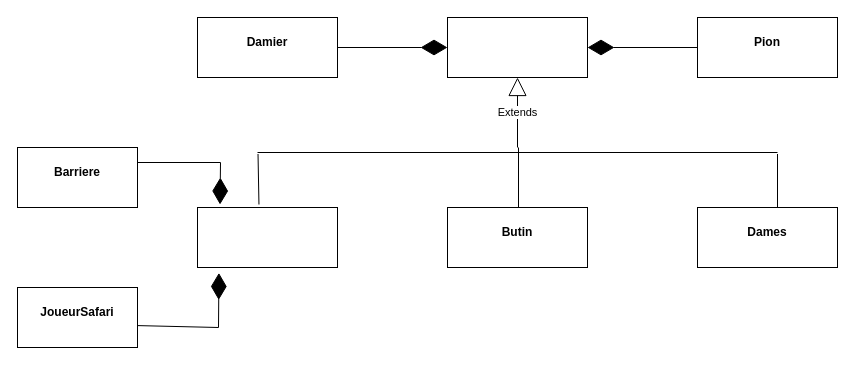
This 855x371 diagram has some shape labels left out. The shapes that lost their labels are listed below. From the top down, each one's box as (x1, y1, x2, y2) in pixels, then its label:
(446, 16, 588, 78): Jeu
(196, 206, 338, 268): Safari
